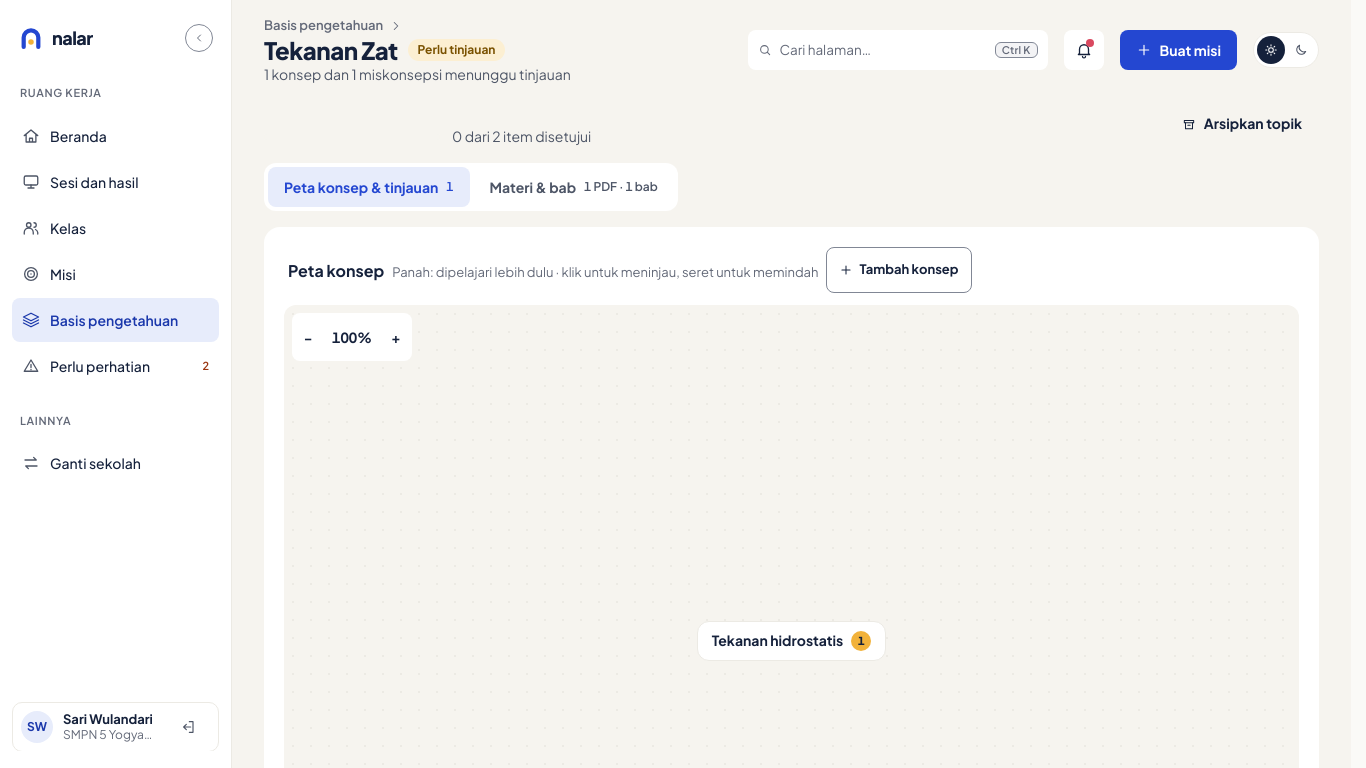
Test case: signed-in teacher pages › builds a chapter once and says why its job failed
What coordinates should you click on to do the following:
click the tab "Materi & bab 1 PDF · 1 bab"
I would click on:
 (574, 187)
Its box is [474, 167, 674, 207].
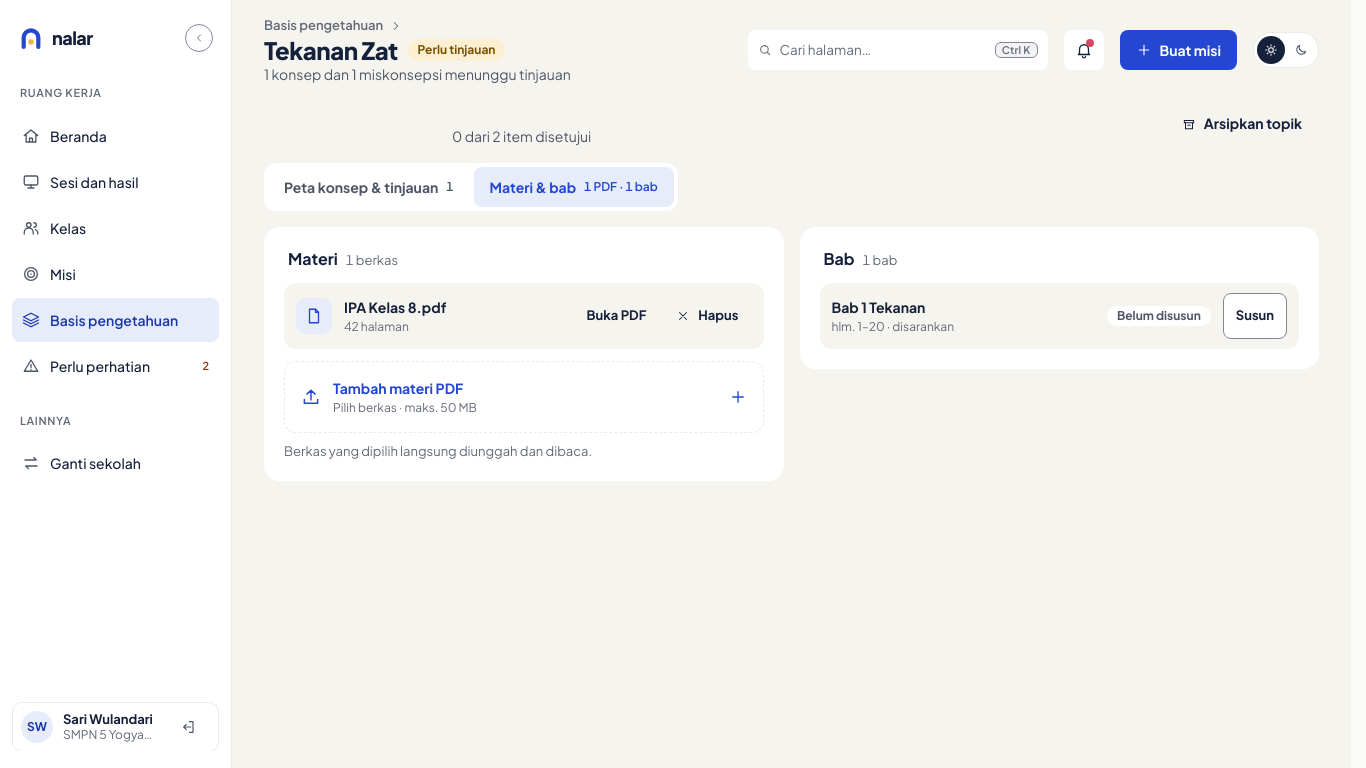
What coordinates should you click on to do the following:
click the button with aria-label "Susun Bab 1 Tekanan"
I would click on:
 (1255, 316)
Its box is [1223, 293, 1287, 339].
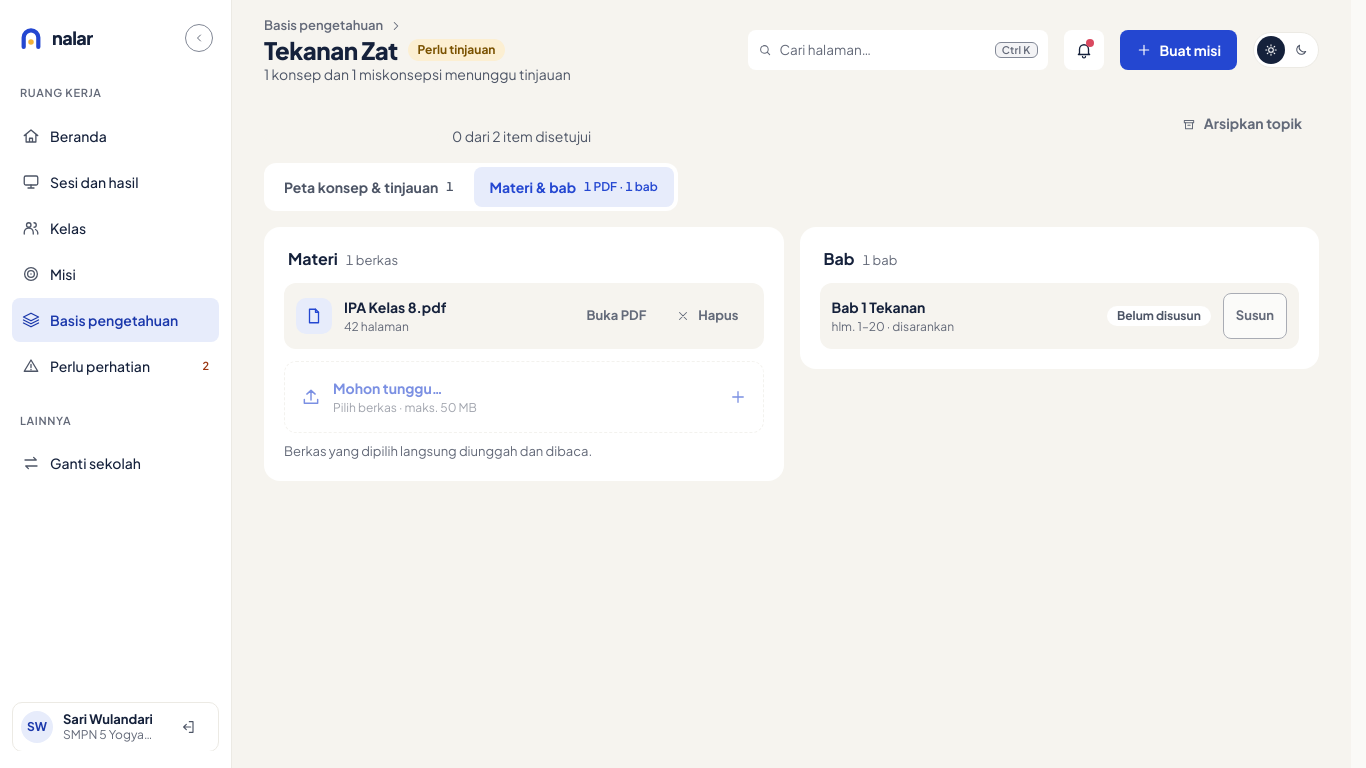
What coordinates should you click on to do the following:
click the button with aria-label "Susun Bab 1 Tekanan"
I would click on:
 (1255, 316)
Its box is [1223, 293, 1287, 339].
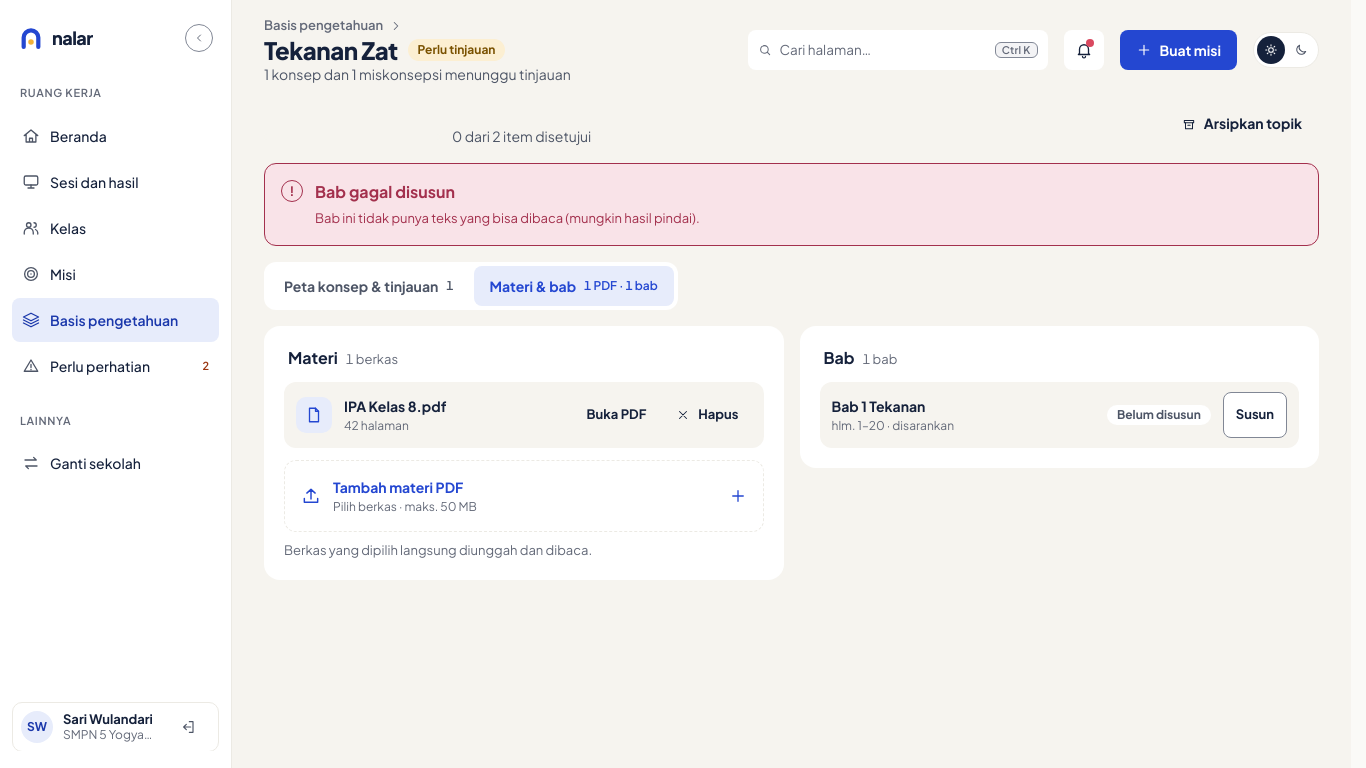
Result: the text "Bab gagal disusun" is shown at [315, 181, 455, 202]
Result: the text "tidak punya teks" is shown at [315, 210, 700, 226]
